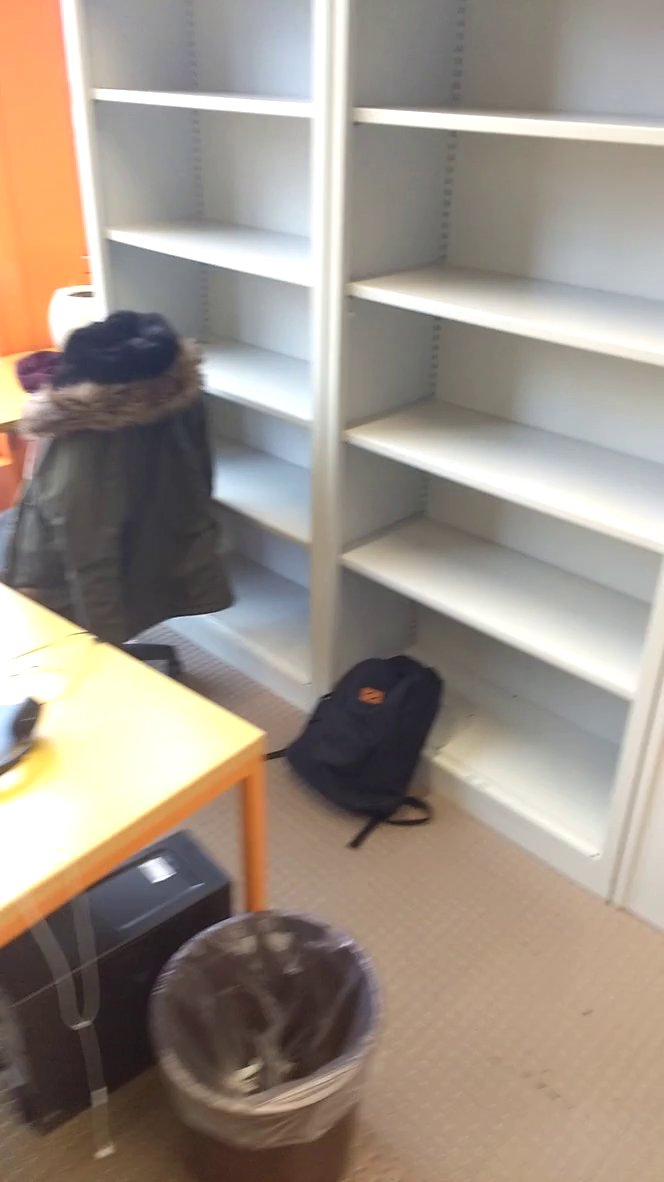bag: (268, 651, 451, 844)
bin: (143, 896, 404, 1182)
